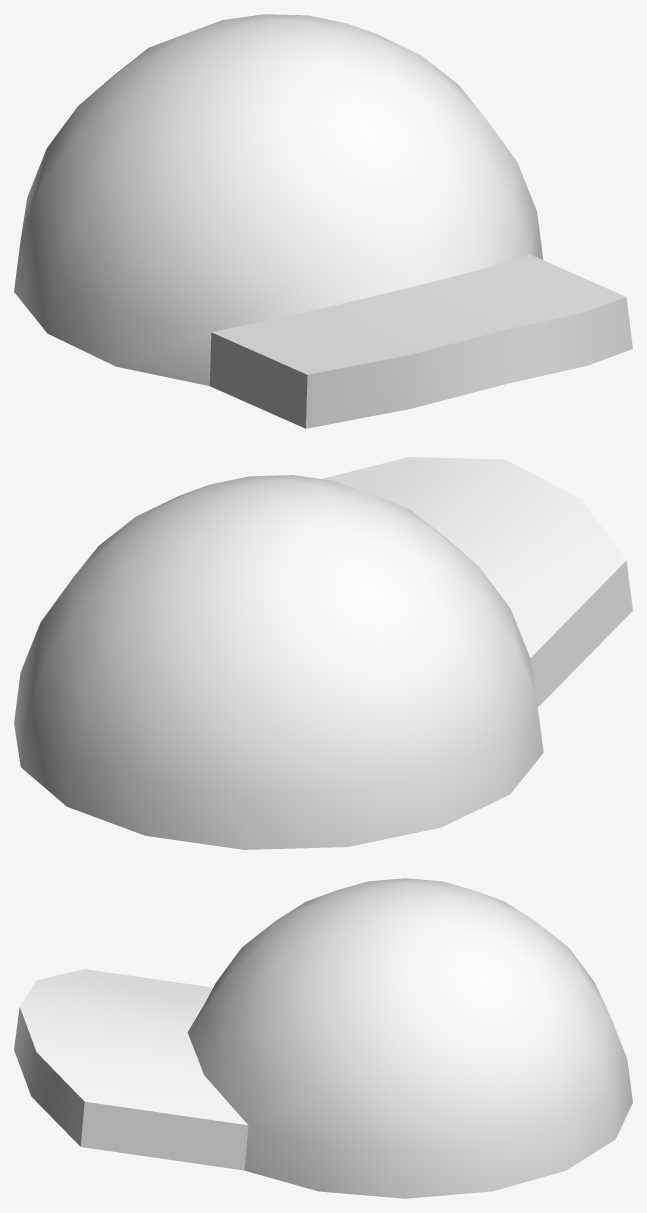
File: Head_Prop_Cap_01.fbx
3 views of the same model, one above another, from view 1: azimuth 30°, elevation 25°; view 2: azimuth 150°, elevation 25°; view 3: azimuth 270°, elevation 25° (orthographic). The views are drawn at different scales.
Parts seen in each view (by area): view 1: Head_Prop_Cap_01; view 2: Head_Prop_Cap_01; view 3: Head_Prop_Cap_01.
Part boxes in pixels (bbox=[...]): Head_Prop_Cap_01: bbox=[14, 14, 632, 428]; Head_Prop_Cap_01: bbox=[14, 457, 632, 849]; Head_Prop_Cap_01: bbox=[14, 878, 632, 1198].
Size of the model in its own units: 111 by 54.95 by 151.
